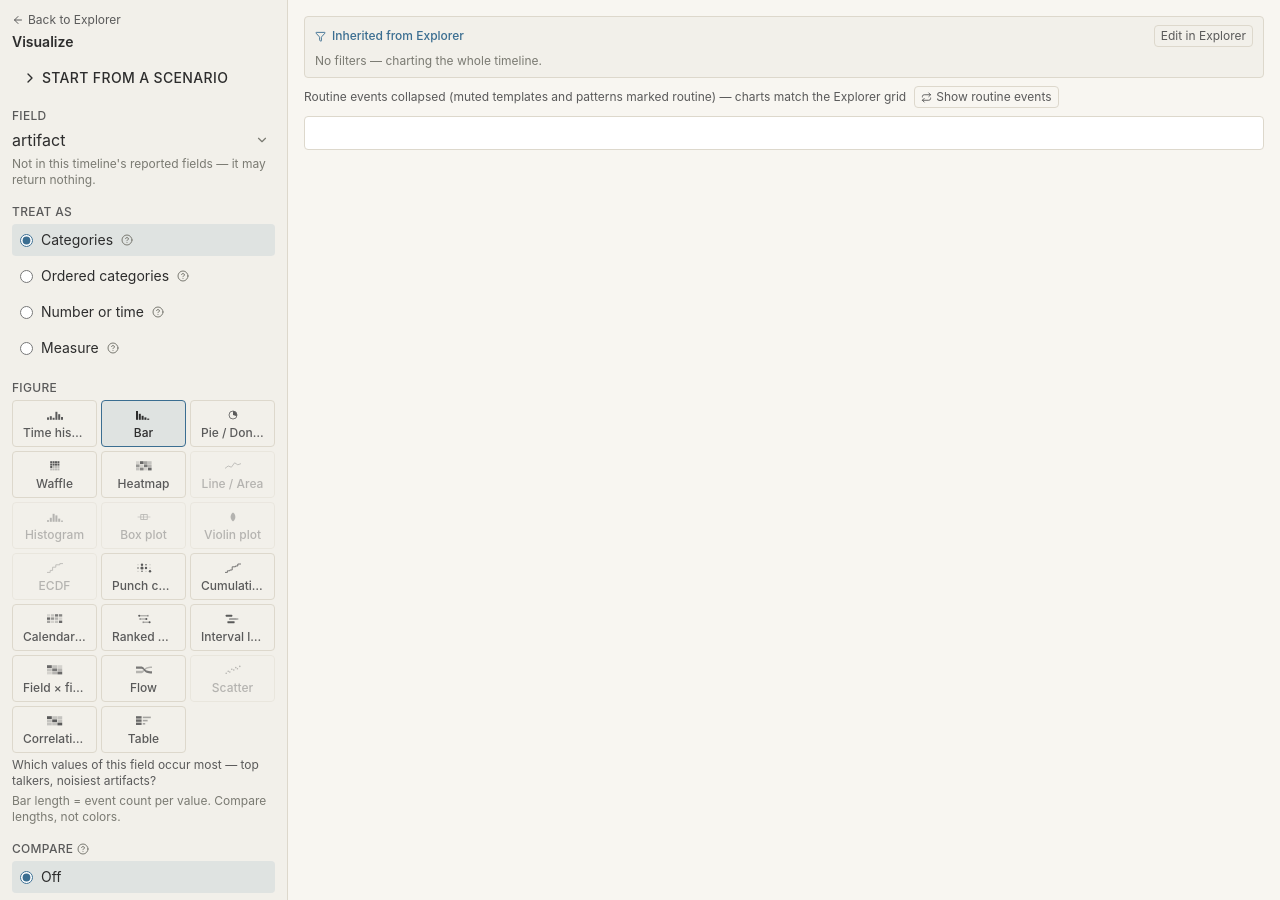
Scenario: VisualizePage automatic re-picks › says so when changing the scale forces a new chart type
Expected: the dropdown named "field" is shown, [12,128,260,152]
Click the radio button labelled "Measure" at (26,348), box [20,342,33,354]
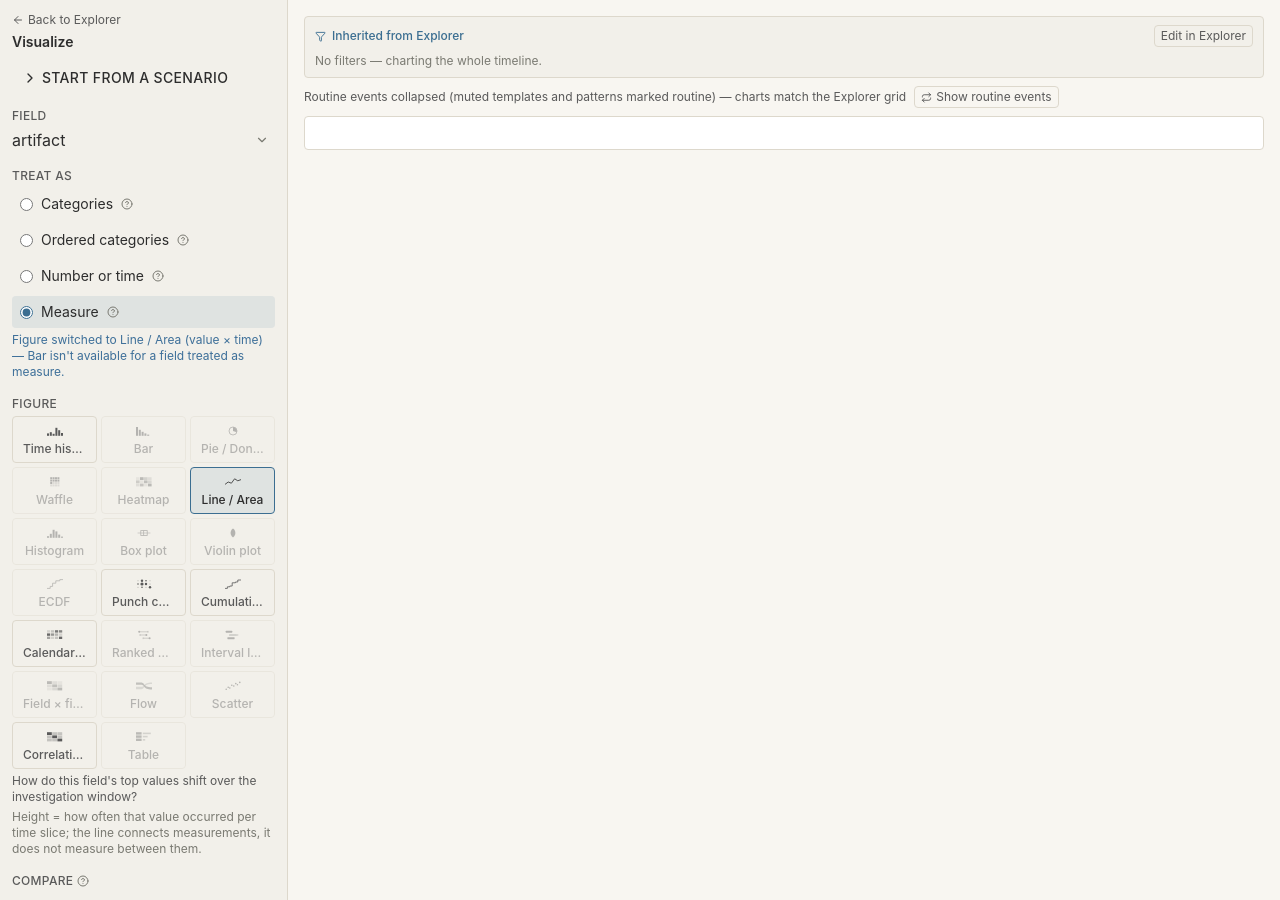
Result: the text "Figure switched to" is shown at [12,332,263,379]
